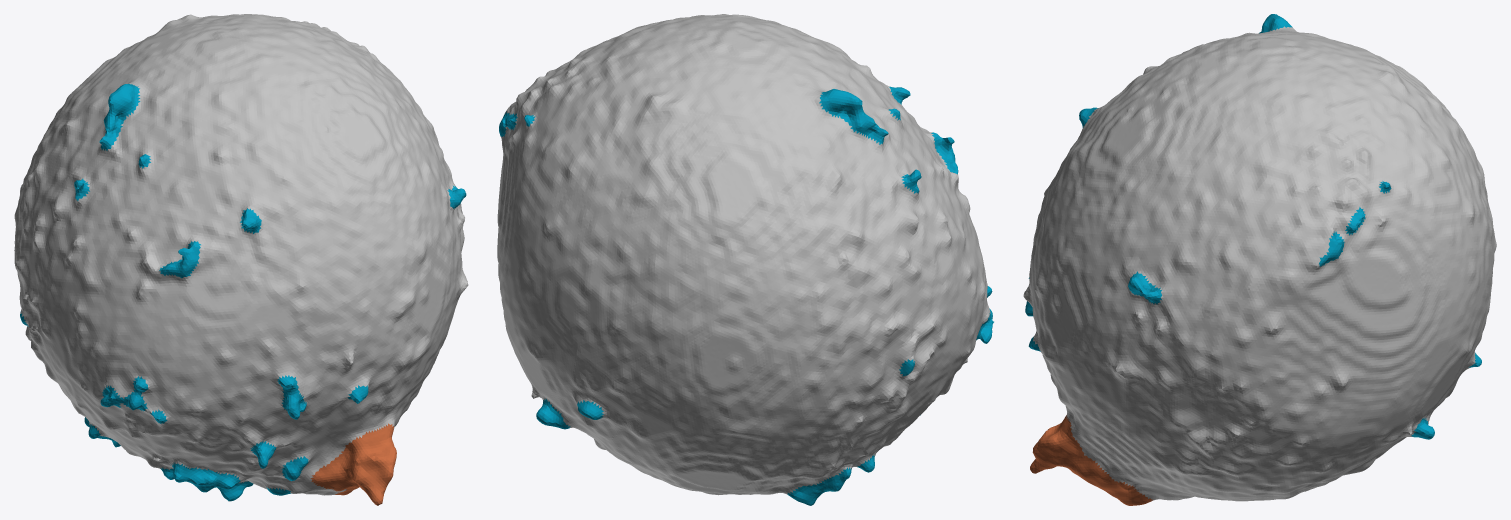
3 renders of one model, left to right at view 1: azimuth 30°, elevation 25°; view 2: azimuth 150°, elevation 25°; view 3: azimuth 270°, elevation 25°, orthographic. The views are drawn at different scales.
Size of the model in its own units: 127 by 130 by 124.
